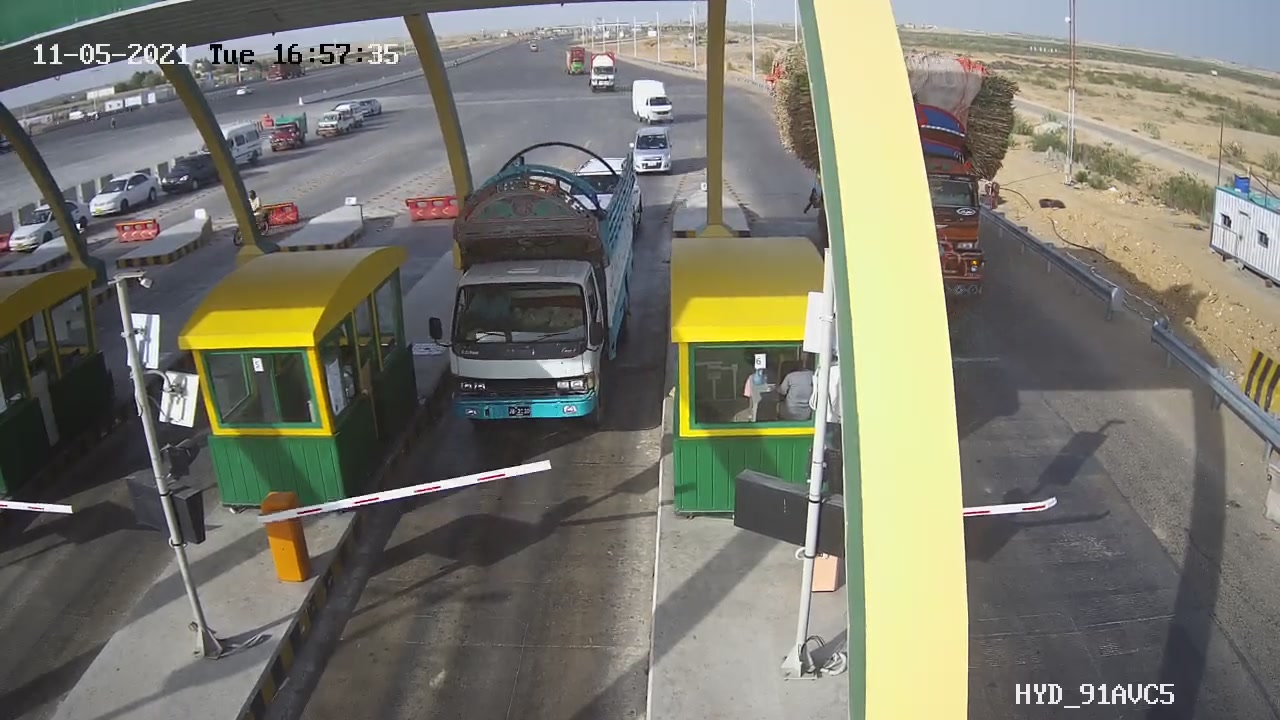F5: (413, 131, 661, 447)
